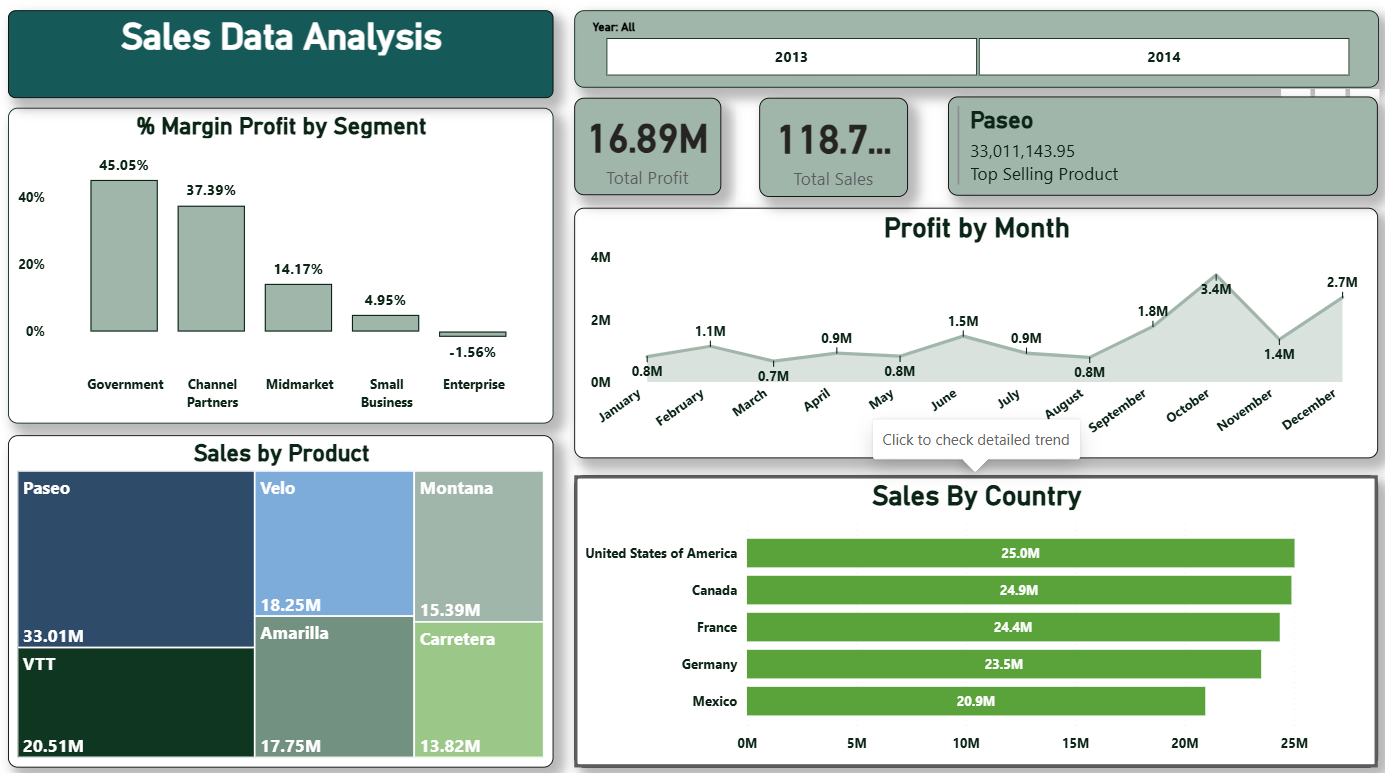

The page's visual inventory and layout, read from the dashboard file:
{"tool":"powerbi","page":{"name":"Page 1","canvas":[1280,720],"ordinal":0},"visuals":[{"type":"areaChart","title":"Profit by Month","fields":{"Category":["financials.Date.Variation.Date Hierarchy.Month"],"Y":["Sum(financials.Profit)"]},"box":[530.4,192.2,739,230.4],"z":0},{"type":"slicer","fields":{"Values":["financials.Year"]},"box":[530.4,10.9,740.4,70.9],"z":1000},{"type":"clusteredColumnChart","title":"% Margin Profit by Segment","fields":{"Y":["Sum(financials.margin)"],"Category":["financials.Segment"]},"box":[9.5,99.5,501.7,290.4],"z":2000},{"type":"treemap","title":"Sales by Product","fields":{"Group":["financials.Product"],"Values":["Sum(financials. Sales)"]},"box":[9.5,400.9,501.7,305.4],"z":3000},{"type":"textbox","title":"Sales Data Analysis","box":[9.5,10.9,501.7,80.4],"z":4000},{"type":"card","fields":{"Values":["Sum(financials.Profit)"]},"box":[530.4,91.4,135,90],"z":5000},{"type":"card","fields":{"Values":["Sum(financials. Sales)"]},"box":[700.3,90.8,136.8,90.8],"z":6000},{"type":"multiRowCard","fields":{"Values":["financials.Product","Sum(financials. Sales)"]},"box":[874,90,395.4,91.4],"z":7000},{"type":"barChart","title":"Sales By Country","fields":{"Category":["financials.Country"],"Y":["Sum(financials. Sales)"]},"box":[530.4,437.7,739,268.6],"z":8000},{"type":"actionButton","box":[529.9,437.9,738.9,268.7],"z":9000}]}

Visuals, with their boxes in screenshot pixels (x1, y1, x2, y2), scaled from the page's 1280x720 canvas onto the 1385x773 screenshot:
"Profit by Month" areaChart: BBox(574, 206, 1374, 454)
slicer - financials.Year: BBox(574, 12, 1375, 88)
"% Margin Profit by Segment" clusteredColumnChart: BBox(10, 107, 553, 419)
"Sales by Product" treemap: BBox(10, 430, 553, 758)
"Sales Data Analysis" textbox: BBox(10, 12, 553, 98)
card - Sum(financials.Profit): BBox(574, 98, 720, 195)
card - Sum(financials. Sales): BBox(758, 97, 906, 195)
multiRowCard - financials.Product x Sum(financials. Sales): BBox(946, 97, 1374, 195)
"Sales By Country" barChart: BBox(574, 470, 1374, 758)
actionButton: BBox(573, 470, 1373, 759)
